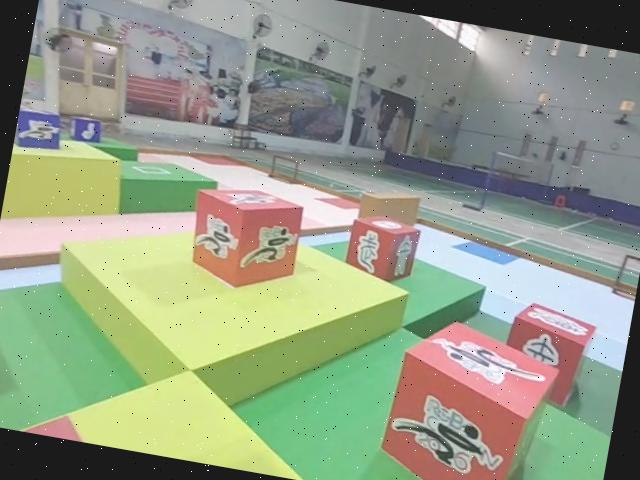R1: (372, 309, 563, 480), (182, 179, 306, 297)
R2 Fake: (342, 210, 422, 289)
